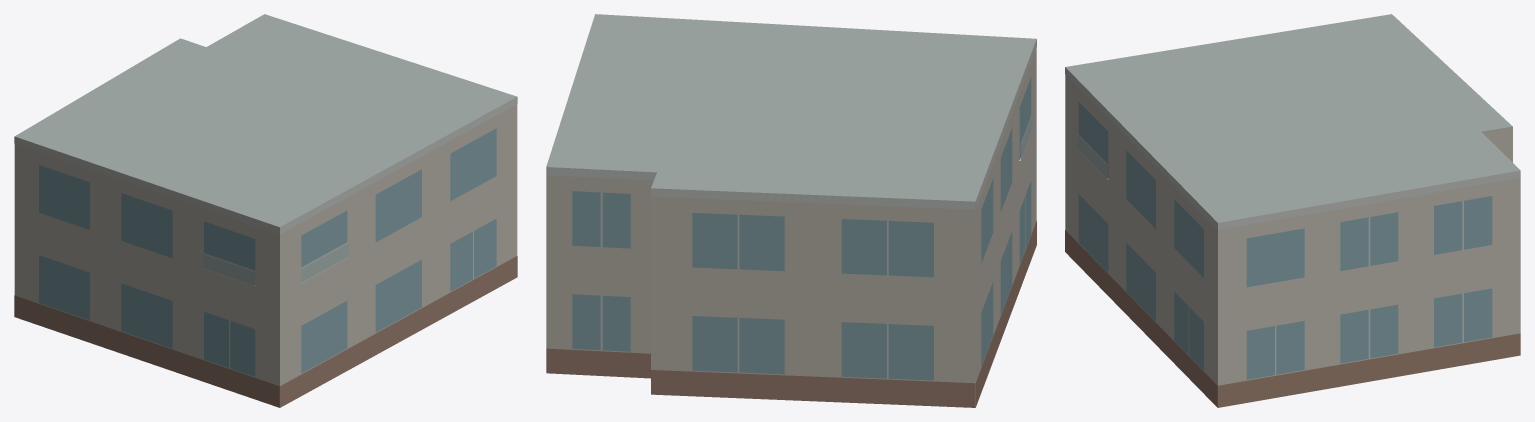
Rendered from survey-upis-32823244.glb.
3 views of the same model, side by side, from view 1: azimuth 30°, elevation 25°; view 2: azimuth 150°, elevation 25°; view 3: azimuth 270°, elevation 25° (orthographic). The views are drawn at different scales.
Visible parts, largest first — view 1: survey-upis-32823244.tmp; view 2: survey-upis-32823244.tmp; view 3: survey-upis-32823244.tmp.
Part boxes in pixels (<box>): survey-upis-32823244.tmp: <box>14,14,517,407</box>; survey-upis-32823244.tmp: <box>546,14,1036,407</box>; survey-upis-32823244.tmp: <box>1065,14,1520,407</box>.
Size of the model in its own units: 14.79 by 6.1 by 13.63.
